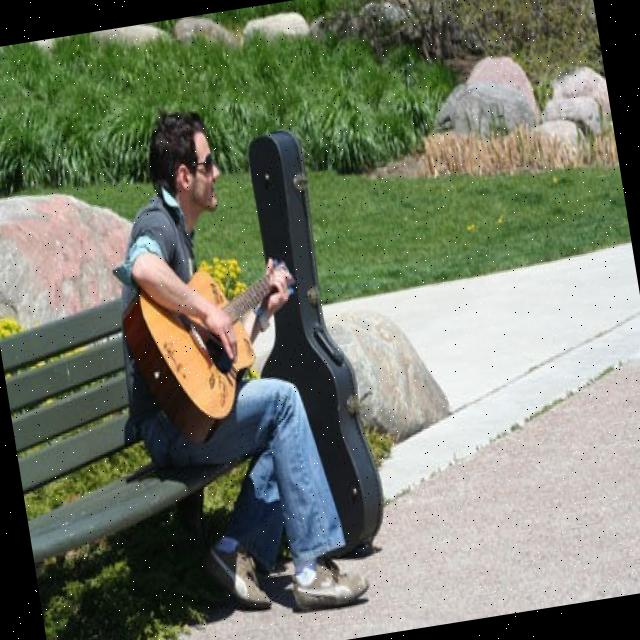guitar: (115, 255, 322, 460)
